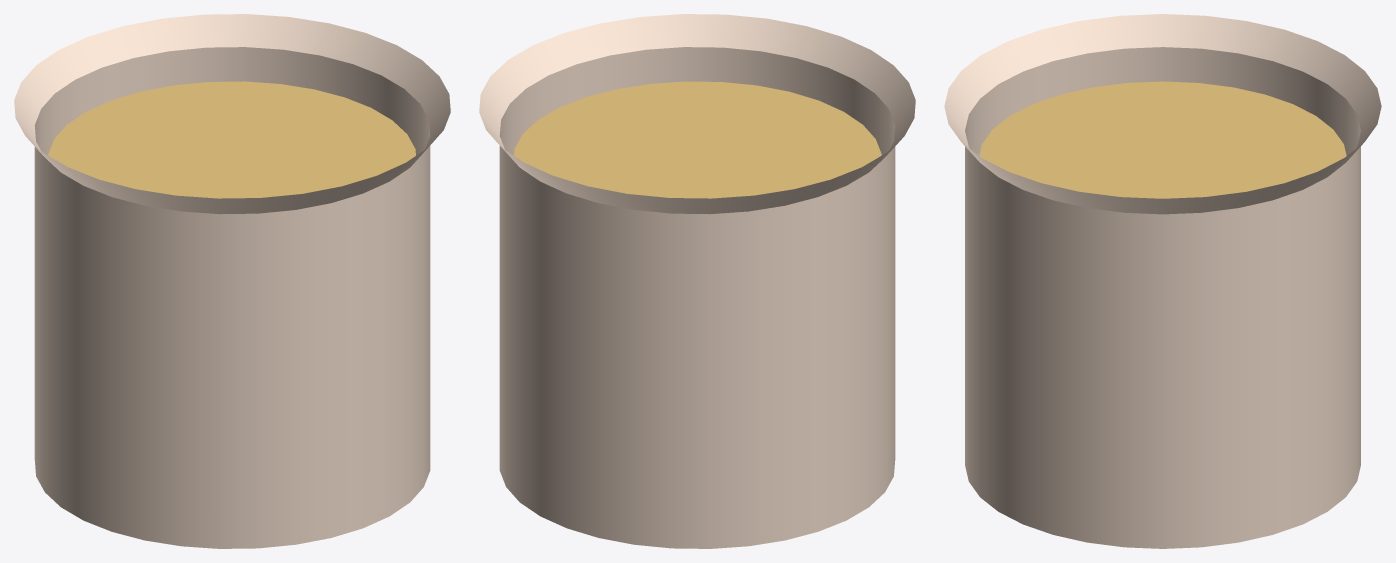
The model's file is beaker.gltf.
The picture shows the model from 3 angles, left to right: view 1: azimuth 30°, elevation 25°; view 2: azimuth 150°, elevation 25°; view 3: azimuth 270°, elevation 25°; orthographic projection.
Visible parts, largest first — view 1: Beaker, Liquid; view 2: Beaker, Liquid; view 3: Beaker, Liquid.
Part boxes in pixels (bbox=[...]): Beaker: bbox=[14, 14, 450, 548]; Liquid: bbox=[48, 81, 415, 198]; Beaker: bbox=[479, 14, 915, 548]; Liquid: bbox=[514, 81, 881, 198]; Beaker: bbox=[944, 14, 1381, 548]; Liquid: bbox=[979, 81, 1346, 198].
Size of the model in its own units: 2.21 by 2 by 2.21.
